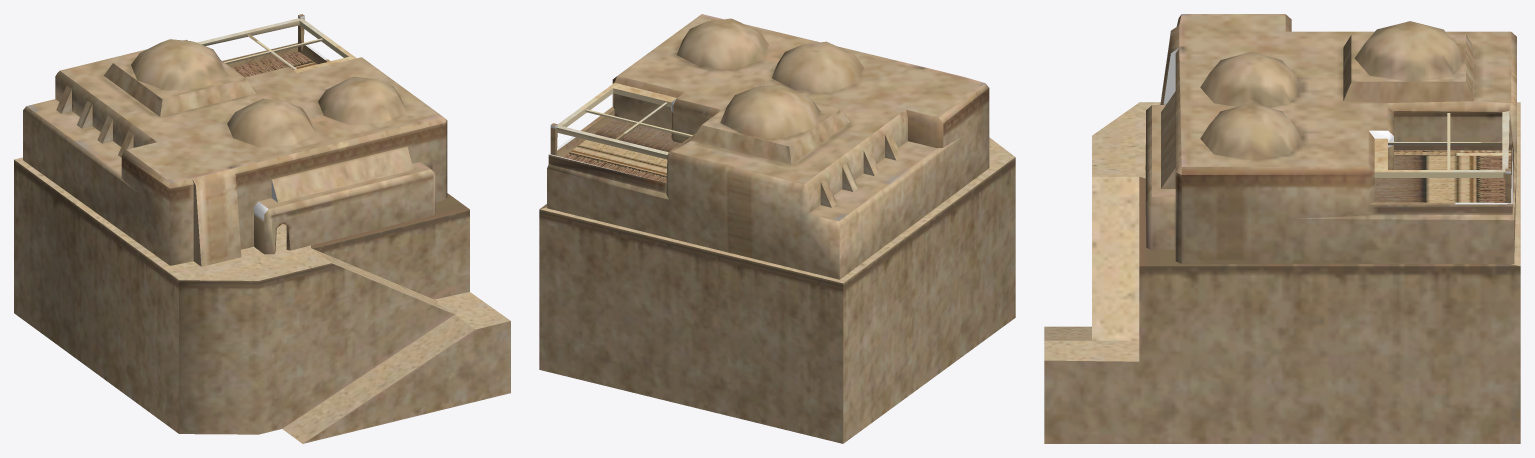
The model's file is ply_tato_house_lg_s01_fp1_r0_mesh_l2.fbx.
The picture shows the model from 3 angles, left to right: view 1: azimuth 30°, elevation 25°; view 2: azimuth 150°, elevation 25°; view 3: azimuth 270°, elevation 25°; orthographic projection. The views are drawn at different scales.
Visible parts, largest first — view 1: mesh_node; view 2: mesh_node; view 3: mesh_node.
Part boxes in pixels (x1,y1,x2,y2): mesh_node: (14, 14, 510, 443); mesh_node: (539, 14, 1015, 443); mesh_node: (1044, 14, 1520, 443).
Size of the model in its own units: 32.67 by 29.37 by 40.11.
